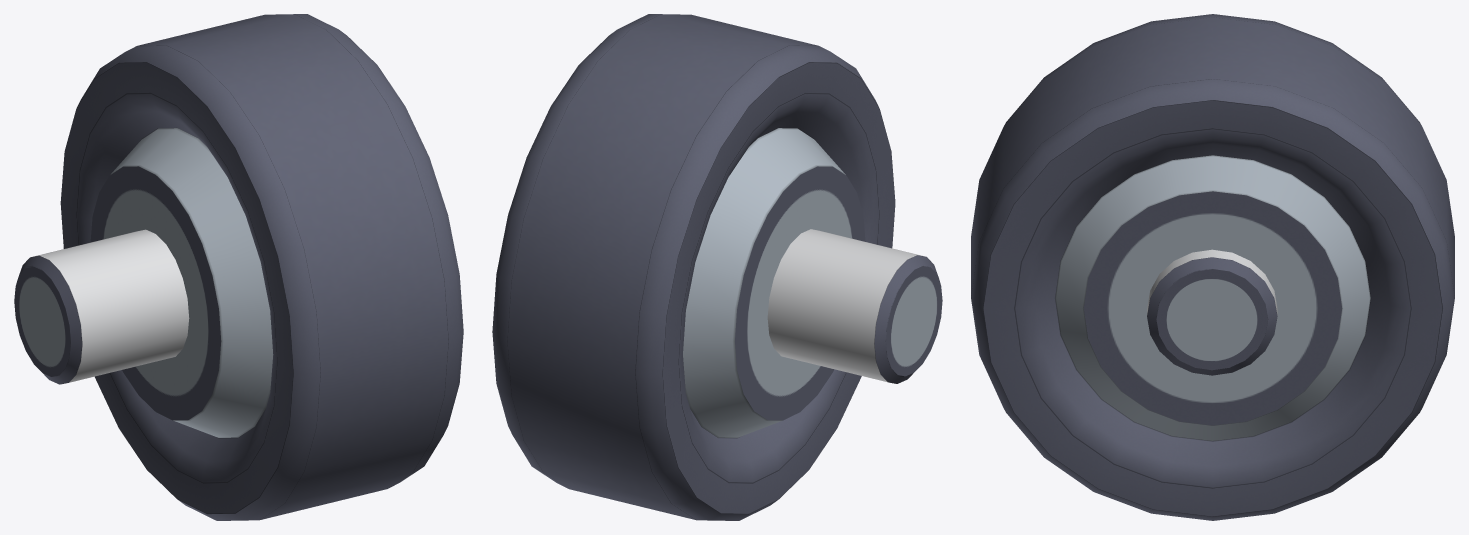
Rendered from Wheel_Big_01.FBX.
3 renders of one model, left to right at view 1: azimuth 30°, elevation 25°; view 2: azimuth 150°, elevation 25°; view 3: azimuth 270°, elevation 25°, orthographic.
Parts seen in each view (by area): view 1: Wheel_Big_01; view 2: Wheel_Big_01; view 3: Wheel_Big_01.
Boxes of the visible parts, x1=… form: Wheel_Big_01: x1=14, y1=14, x2=463, y2=520; Wheel_Big_01: x1=492, y1=14, x2=942, y2=520; Wheel_Big_01: x1=971, y1=14, x2=1454, y2=520.
Size of the model in its own units: 3.85 by 4.99 by 4.99.
